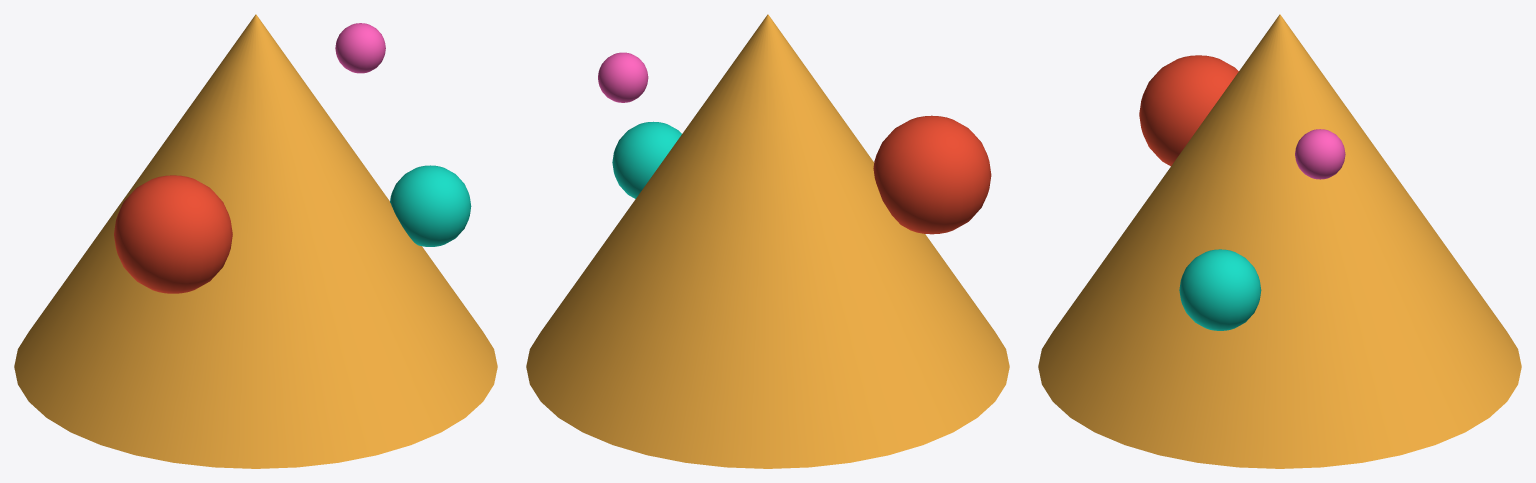
3 views of the same model, side by side, from view 1: azimuth 30°, elevation 25°; view 2: azimuth 150°, elevation 25°; view 3: azimuth 270°, elevation 25° (orthographic).
Parts seen in each view (by area): view 1: 圆锥, 球体, 球体.2, 球体.1; view 2: 圆锥, 球体, 球体.2, 球体.1; view 3: 圆锥, 球体, 球体.2, 球体.1.
Boxes of the visible parts, x1,y1,x2,y2 form: 圆锥: [14, 14, 497, 468]; 球体: [114, 175, 232, 293]; 球体.2: [390, 165, 471, 246]; 球体.1: [335, 23, 385, 73]; 圆锥: [526, 14, 1009, 468]; 球体: [873, 115, 991, 234]; 球体.2: [612, 121, 681, 198]; 球体.1: [598, 52, 648, 102]; 圆锥: [1038, 14, 1521, 468]; 球体: [1139, 55, 1238, 166]; 球体.2: [1179, 249, 1261, 330]; 球体.1: [1295, 129, 1345, 179].
Bounding box in the file's own units: 200 × 161 × 200.
